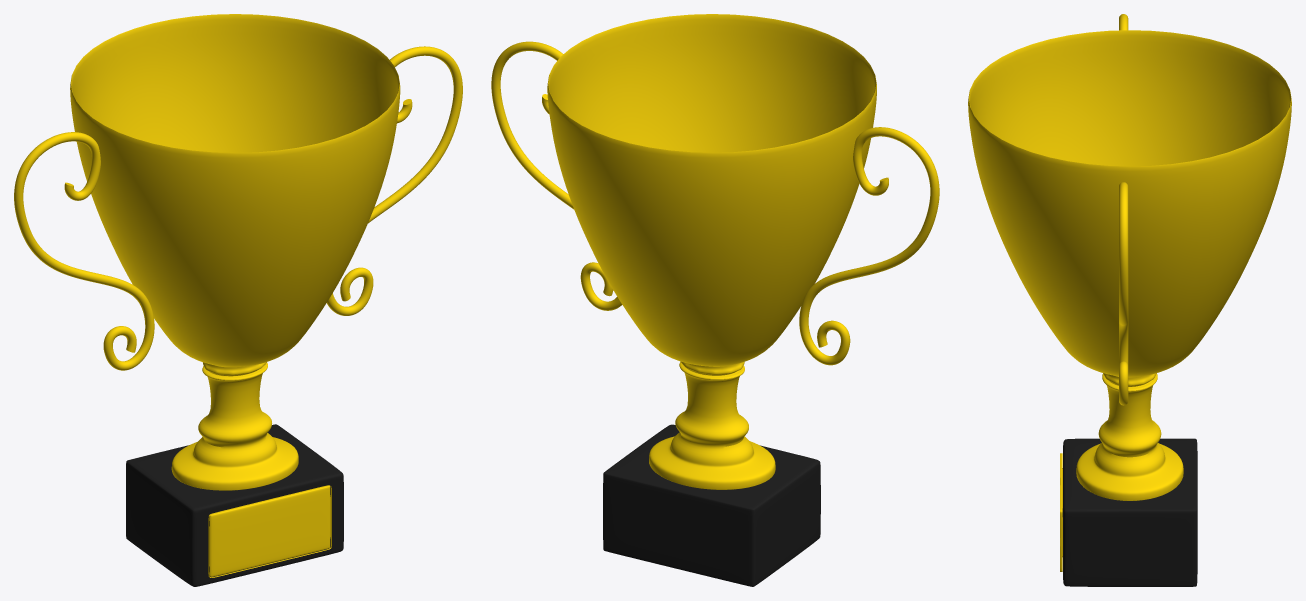
The model's file is trophy.glb.
The picture shows the model from 3 angles, left to right: view 1: azimuth 30°, elevation 25°; view 2: azimuth 150°, elevation 25°; view 3: azimuth 270°, elevation 25°; orthographic projection.
Parts seen in each view (by area): view 1: trophy; view 2: trophy; view 3: trophy.
Boxes of the visible parts, box(x1,y1,x2,y2) form: trophy: box(14, 14, 462, 586); trophy: box(491, 14, 939, 586); trophy: box(968, 14, 1291, 586).
Size of the model in its own units: 0.6504 by 0.642 by 0.4155.
